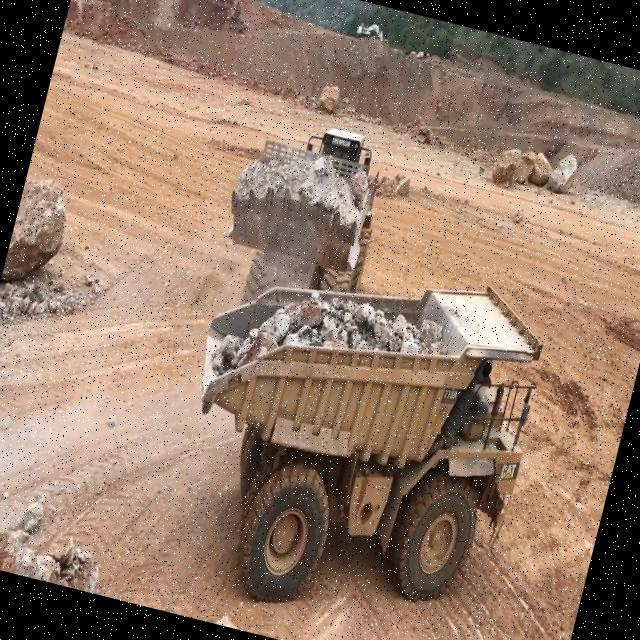Dump Truck: (139, 179, 580, 640)
Excavator: (356, 16, 387, 40)
Loader: (197, 97, 400, 366)
